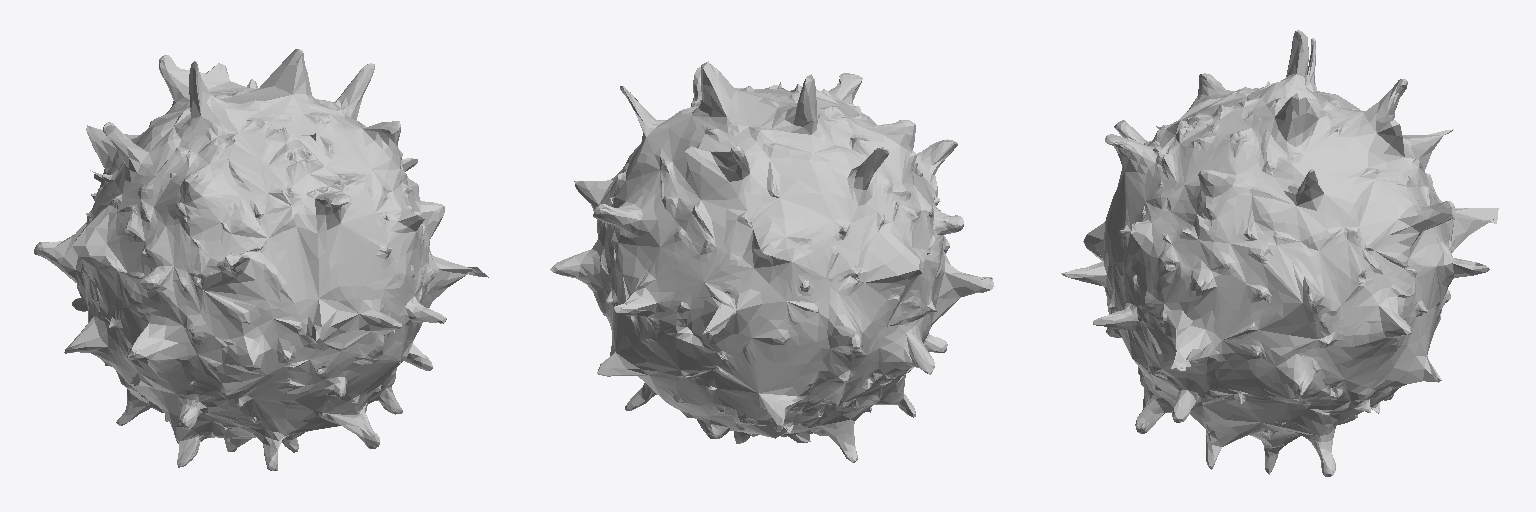
File: virus 1.obj
The picture shows the model from 3 angles: view 1: azimuth 30°, elevation 25°; view 2: azimuth 150°, elevation 25°; view 3: azimuth 270°, elevation 25°; orthographic projection.
Parts seen in each view (by area): view 1: Low_Poly; view 2: Low_Poly; view 3: Low_Poly.
Boxes of the visible parts, x1,y1,x2,y2 form: Low_Poly: [34, 49, 488, 470]; Low_Poly: [550, 61, 993, 462]; Low_Poly: [1061, 30, 1498, 476].
Size of the model in its own units: 0.5376 by 0.5768 by 0.569.